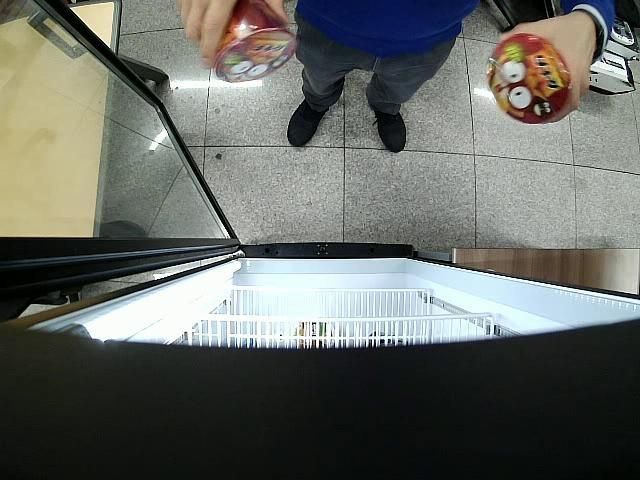06_nuguri_S: (484, 34, 570, 124), (214, 0, 301, 83)
